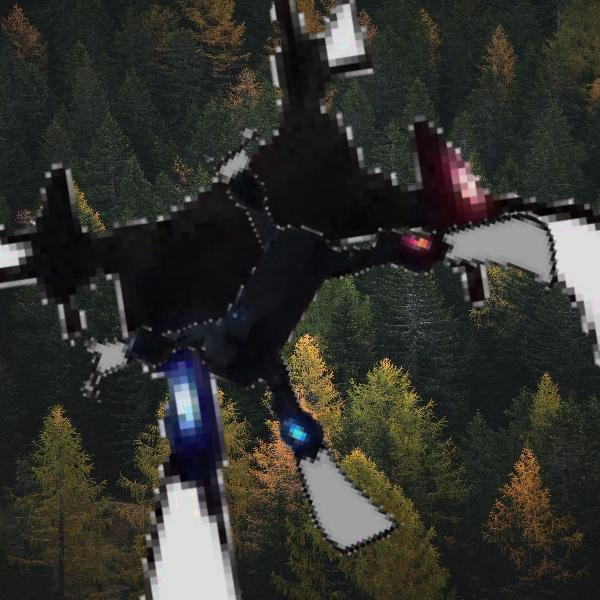drone: (102, 112, 533, 543)
